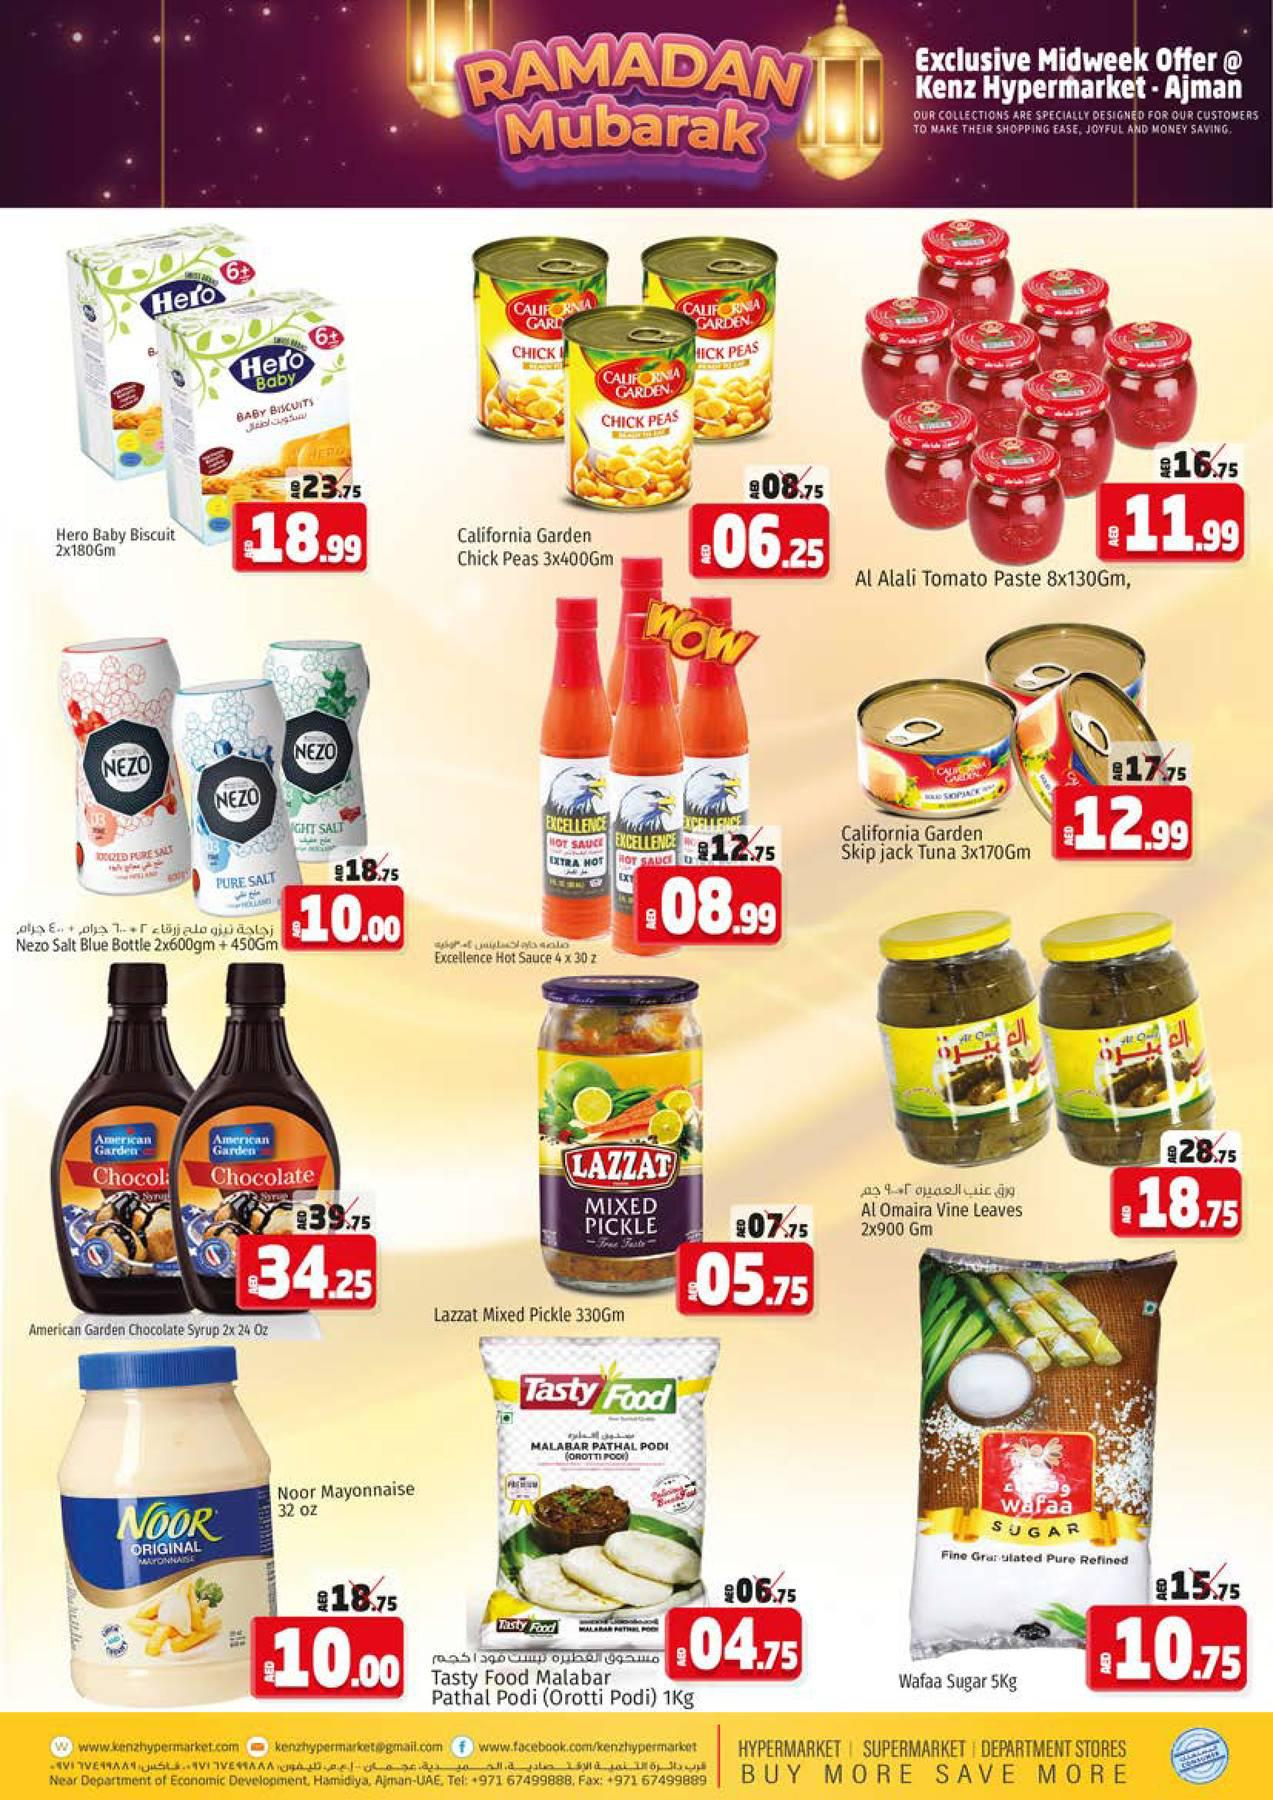text: (417, 1637, 711, 1723), (0, 908, 293, 965), (835, 1172, 1040, 1255), (840, 562, 1150, 611), (822, 817, 1040, 877), (433, 516, 630, 581), (259, 1464, 428, 1537), (18, 1312, 284, 1352), (41, 512, 189, 580), (420, 930, 614, 979), (880, 1655, 1037, 1712), (422, 1297, 631, 1336)
